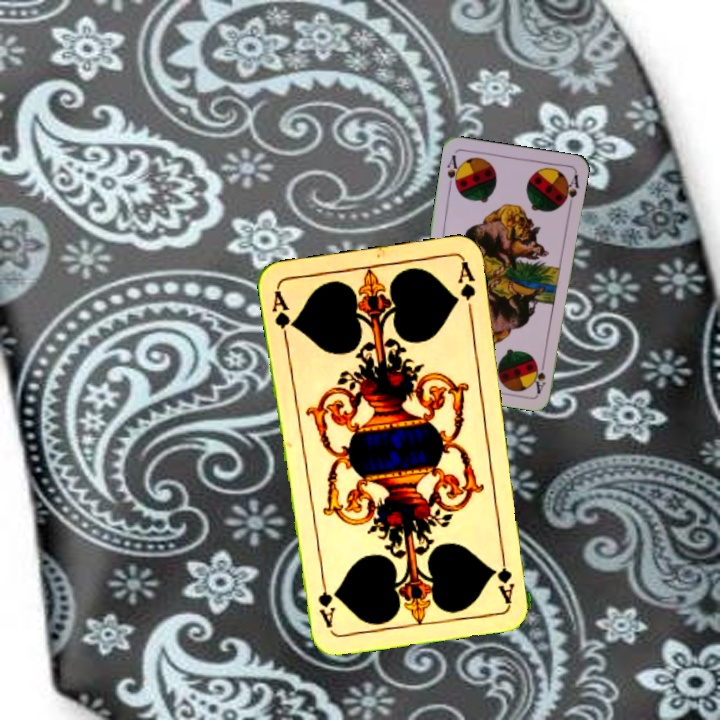GA: (267, 286, 298, 344), (494, 546, 517, 605)
SA: (443, 151, 463, 192), (531, 355, 548, 396)
